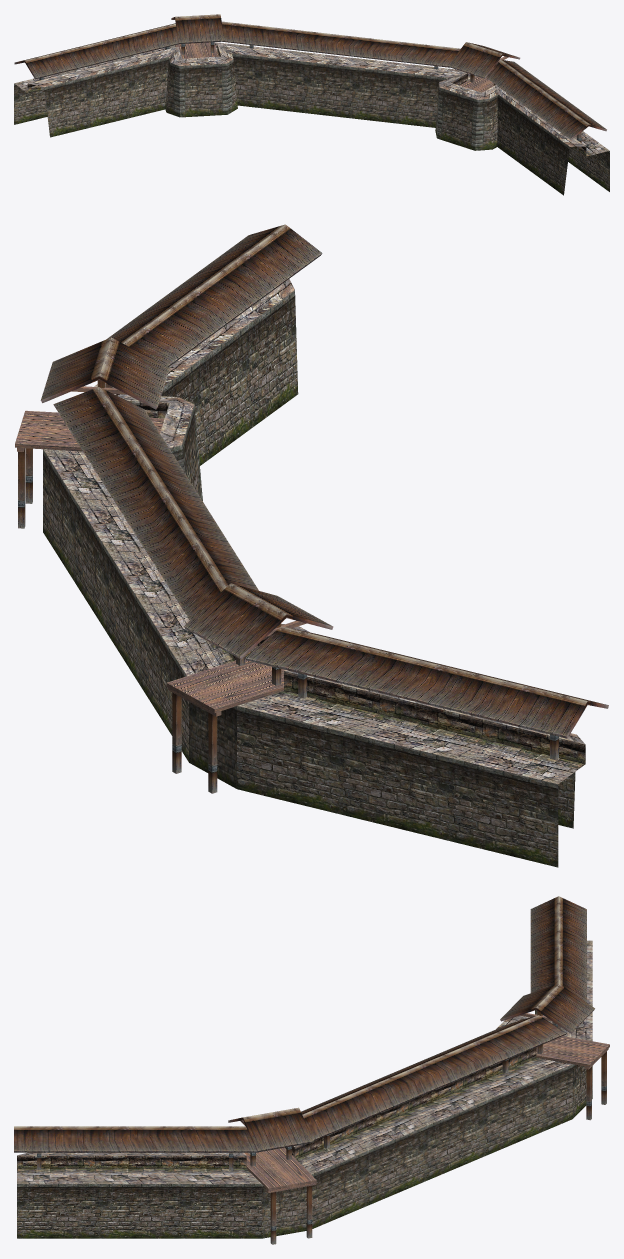
The model's file is m_wall2.glb.
The picture shows the model from 3 angles, top to bottom: view 1: azimuth 30°, elevation 25°; view 2: azimuth 150°, elevation 25°; view 3: azimuth 270°, elevation 25°; orthographic projection. The views are drawn at different scales.
Visible parts, largest first — view 1: m_wall2; view 2: m_wall2; view 3: m_wall2.
Part boxes in pixels (x1,y1,x2,y2): m_wall2: [14, 14, 609, 195]; m_wall2: [15, 224, 608, 867]; m_wall2: [14, 896, 609, 1244].
Size of the model in its own units: 41.3 by 8.2 by 41.3.
Materials: 7 (7 with a texture image).
